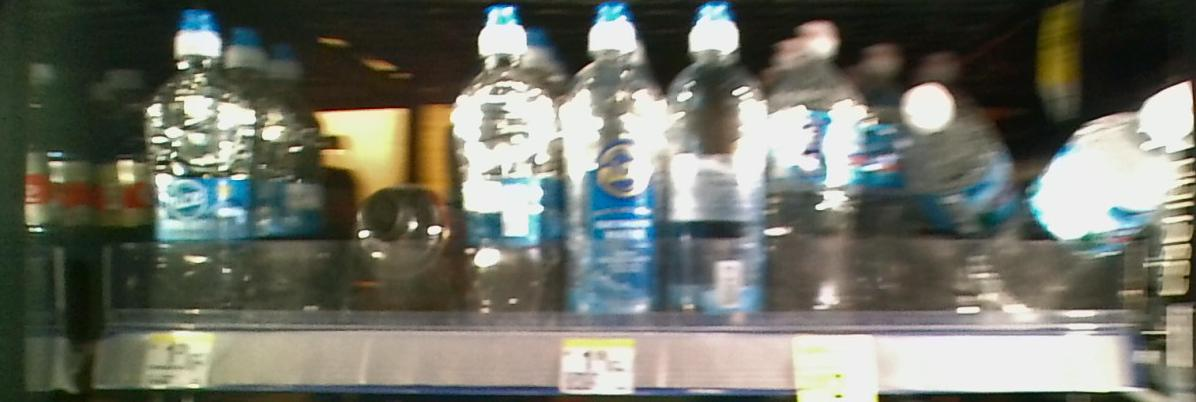bottle: (144, 9, 258, 326), (452, 8, 559, 320), (564, 3, 666, 321), (671, 6, 766, 329), (772, 19, 866, 320), (346, 166, 447, 279)
